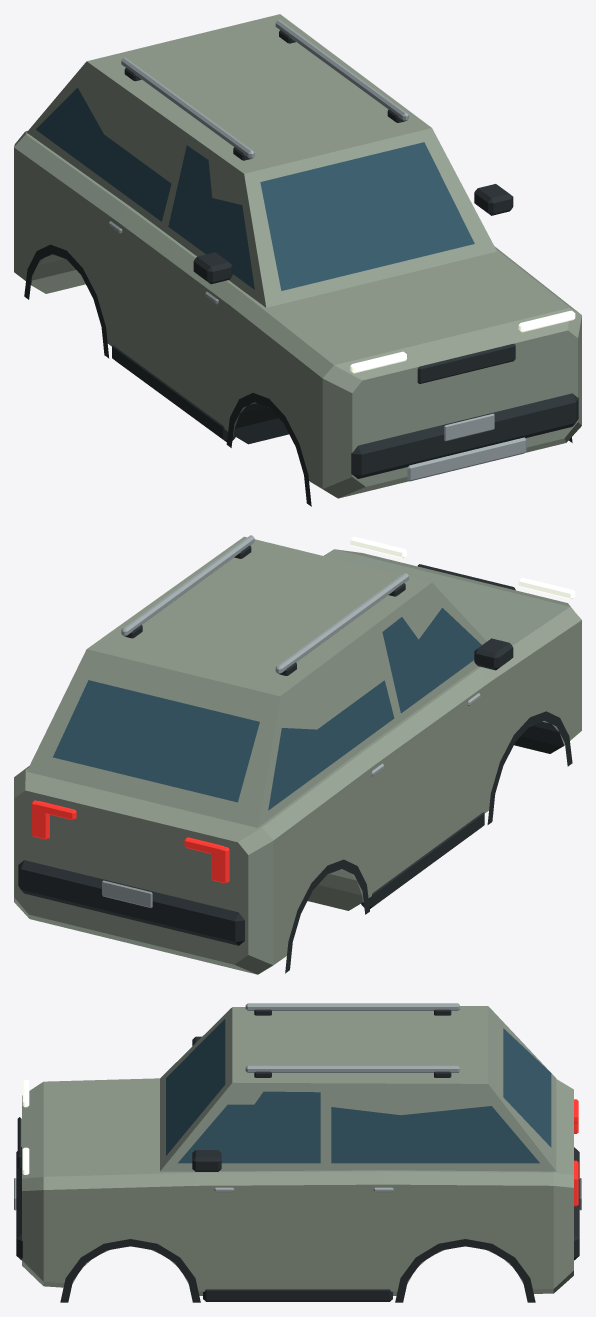
Rendered from crossover.glb.
3 views of the same model, one above another, from view 1: azimuth 30°, elevation 25°; view 2: azimuth 150°, elevation 25°; view 3: azimuth 270°, elevation 25° (orthographic). The views are drawn at different scales.
Parts seen in each view (by area): view 1: BODY_Crossover; view 2: BODY_Crossover; view 3: BODY_Crossover.
Part boxes in pixels (<box>): BODY_Crossover: <box>14,14,581,506</box>; BODY_Crossover: <box>14,535,581,974</box>; BODY_Crossover: <box>14,1003,581,1302</box>.
Bounding box in the file's own units: 2.18 × 1.78 × 4.24.
